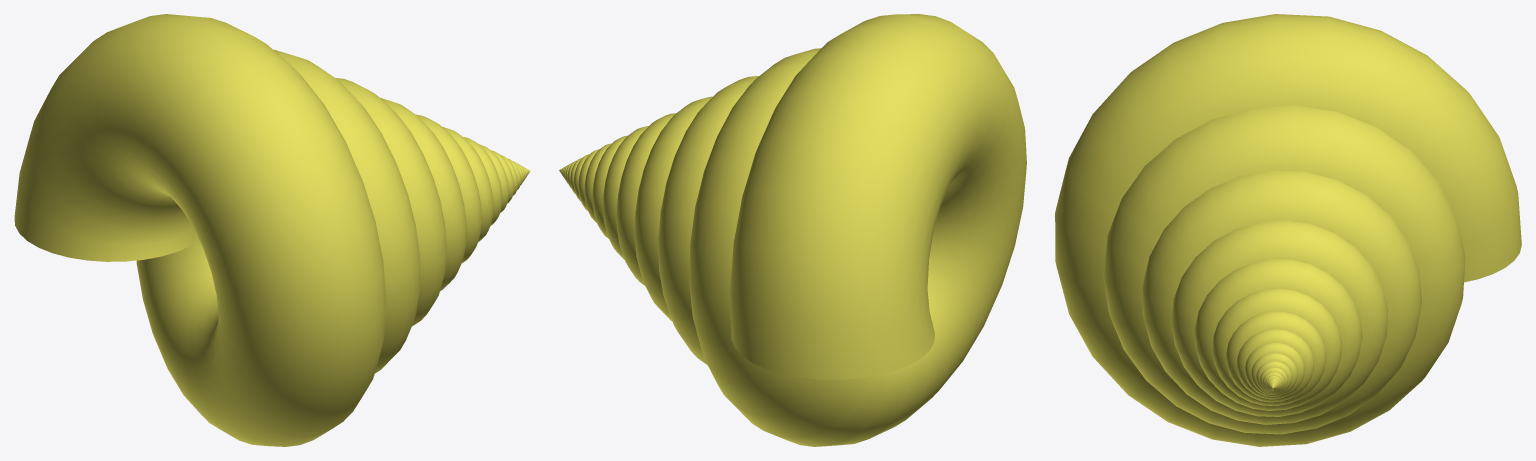
3 renders of one model, left to right at view 1: azimuth 30°, elevation 25°; view 2: azimuth 150°, elevation 25°; view 3: azimuth 270°, elevation 25°, orthographic. The views are drawn at different scales.
Parts seen in each view (by area): view 1: t3; view 2: t3; view 3: t3.
Boxes of the visible parts, x1,y1,x2,y2 form: t3: (14,14,529,446); t3: (559,14,1026,446); t3: (1055,14,1521,446).
Size of the model in its own units: 500 by 450 by 478.
